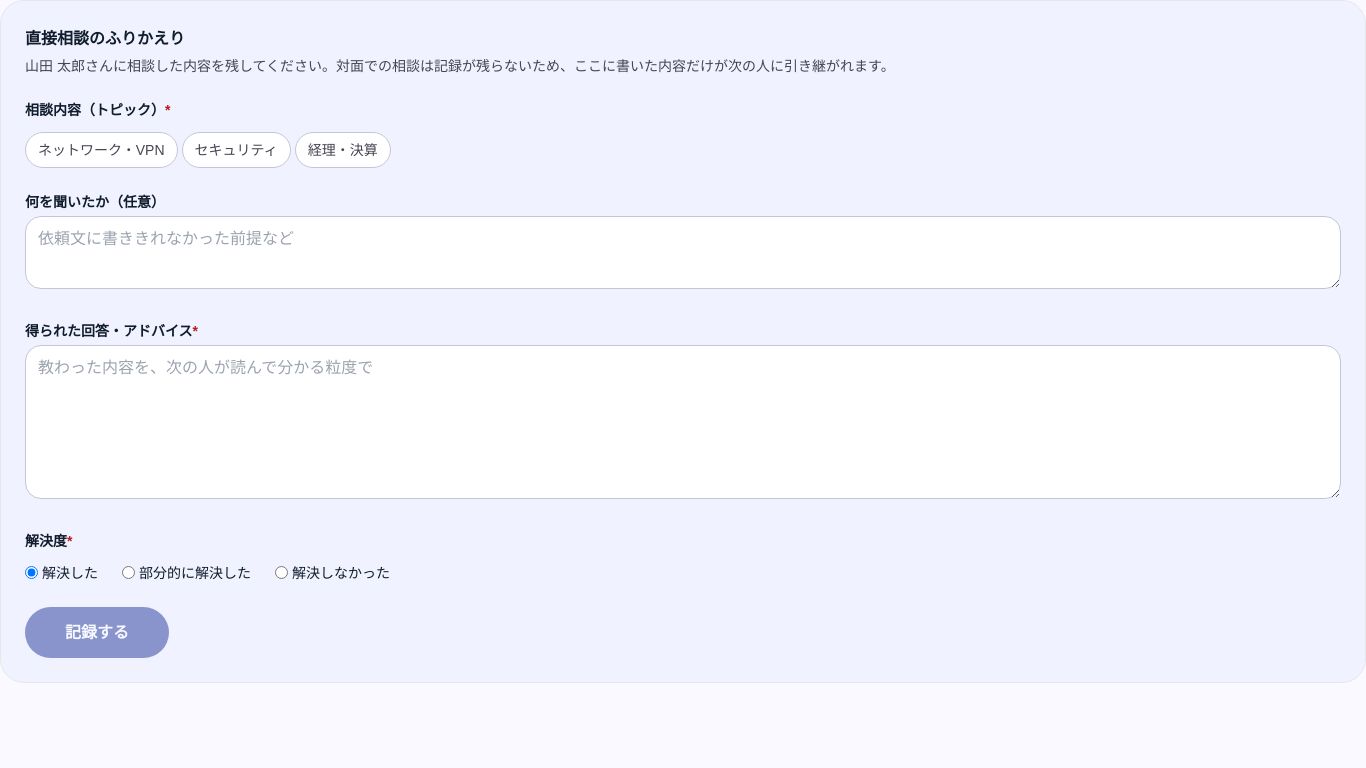
RetrospectiveForm › deselects a topic when it is clicked again
The image size is (1366, 768).
Click the button "ネットワーク・VPN" at (101, 150), box x1=25 y1=132 x2=178 y2=168
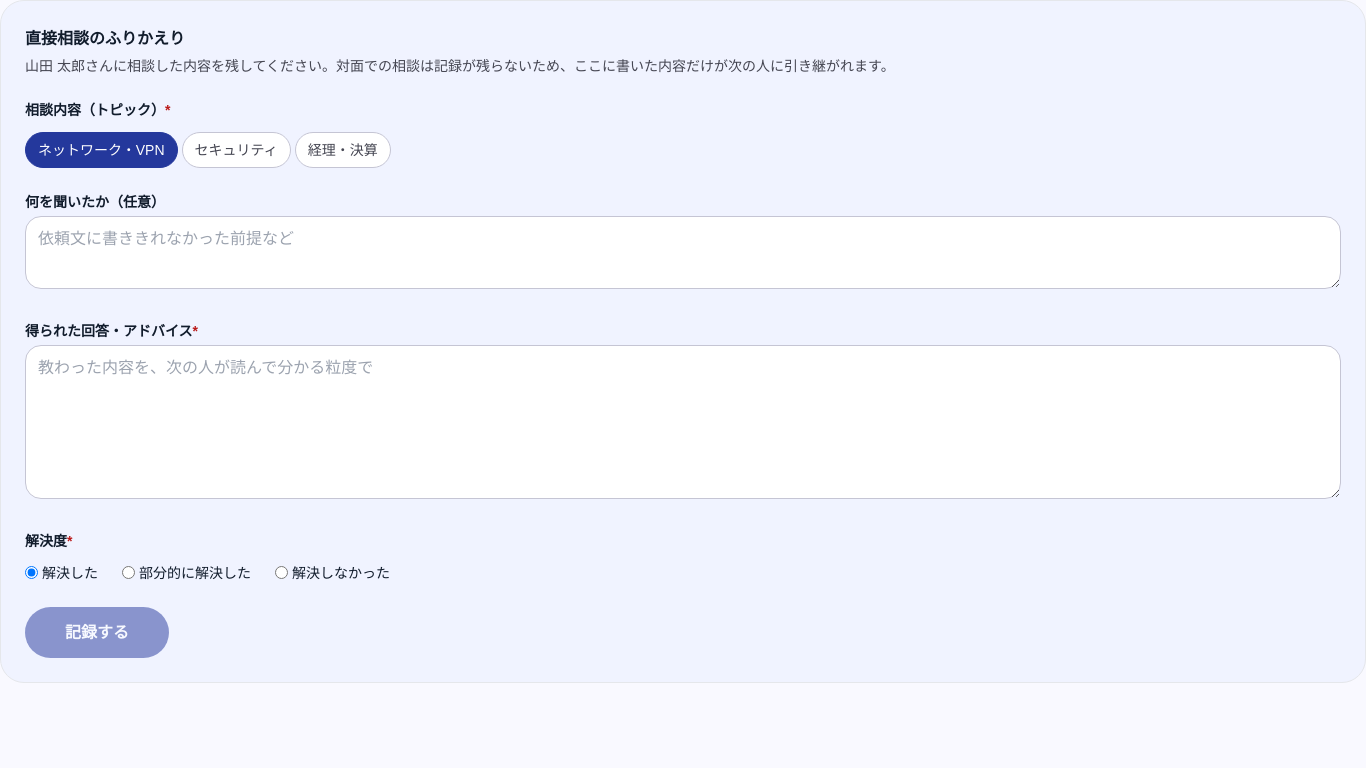
Type "MTU を下げると直る、という話でした" into the text box labelled "得られた回答・アドバイス*" at (683, 422), box x1=25 y1=345 x2=1341 y2=499
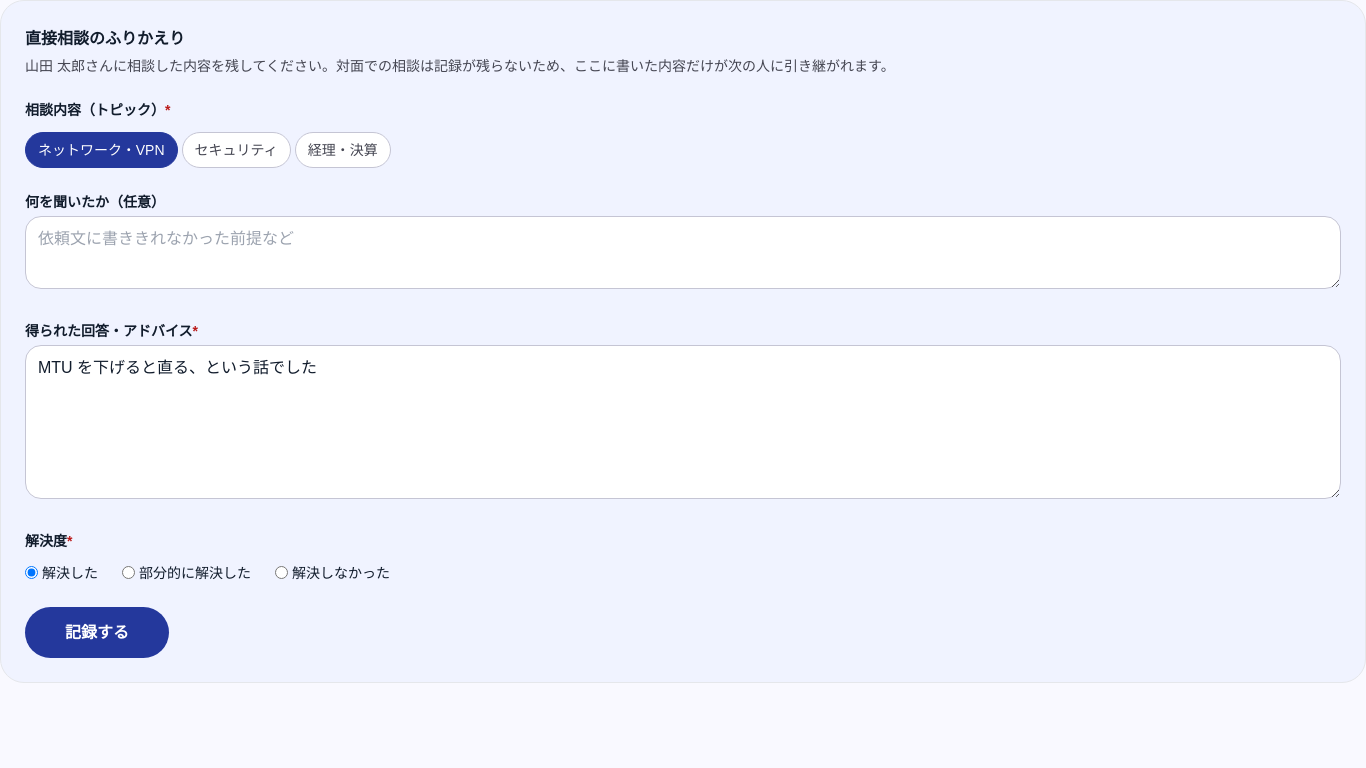
Click the button "ネットワーク・VPN" at (101, 150), box x1=25 y1=132 x2=178 y2=168
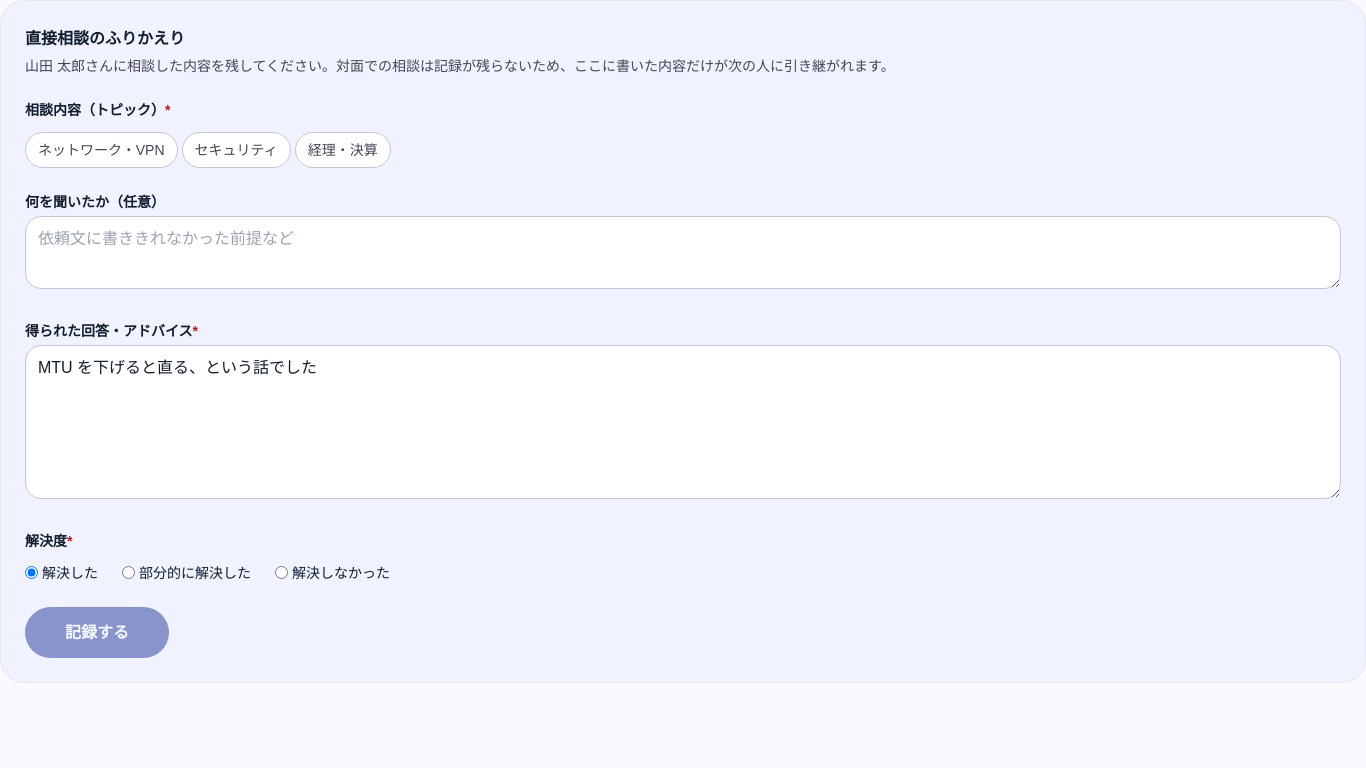
Check: the button "記録する" is disabled, box x1=25 y1=607 x2=169 y2=658
